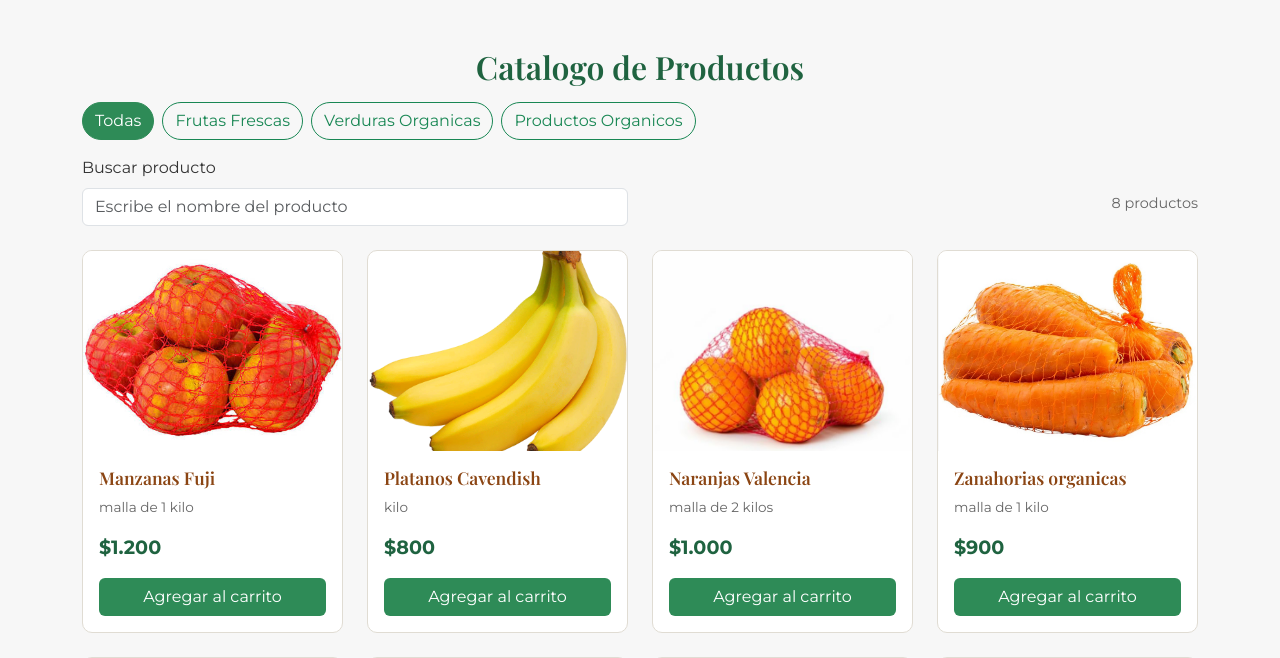
Scenario: Vista Catalogo › al agregar, la tarjeta confirma con 'Agregado!'
Click the button "Agregar al carrito" below "$1.200" at (212, 597), box [99,578,326,616]
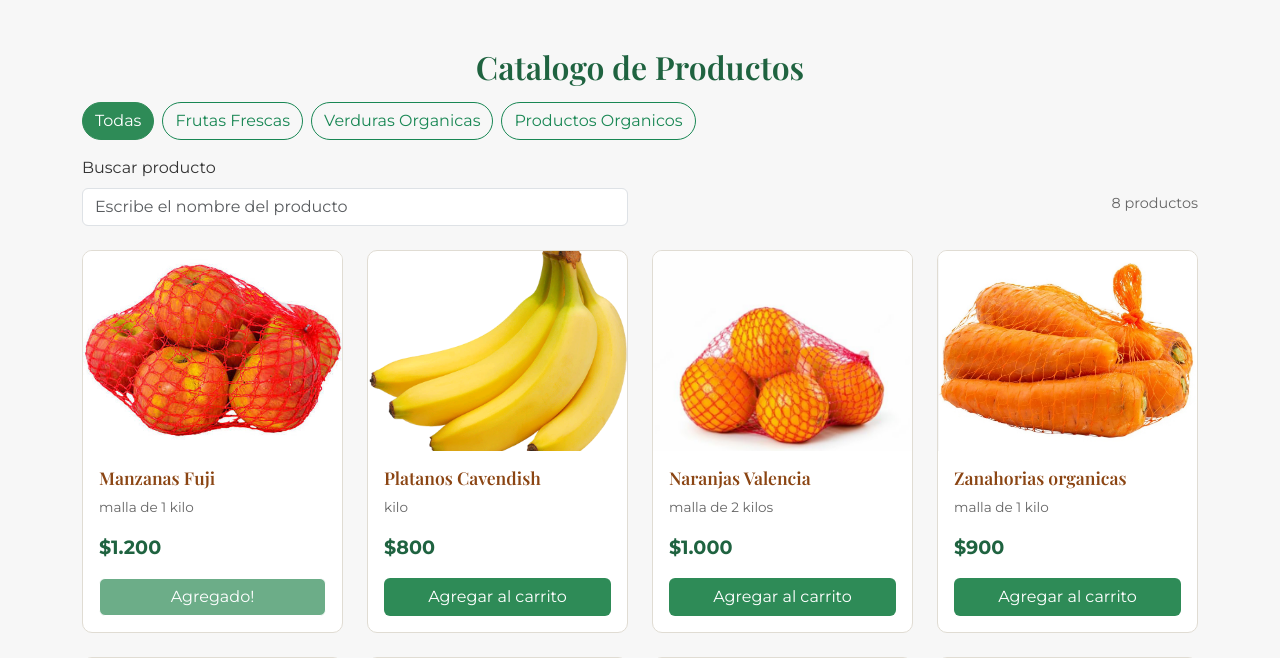
Expected: the button "Agregado!" is shown, [99,578,326,616]
